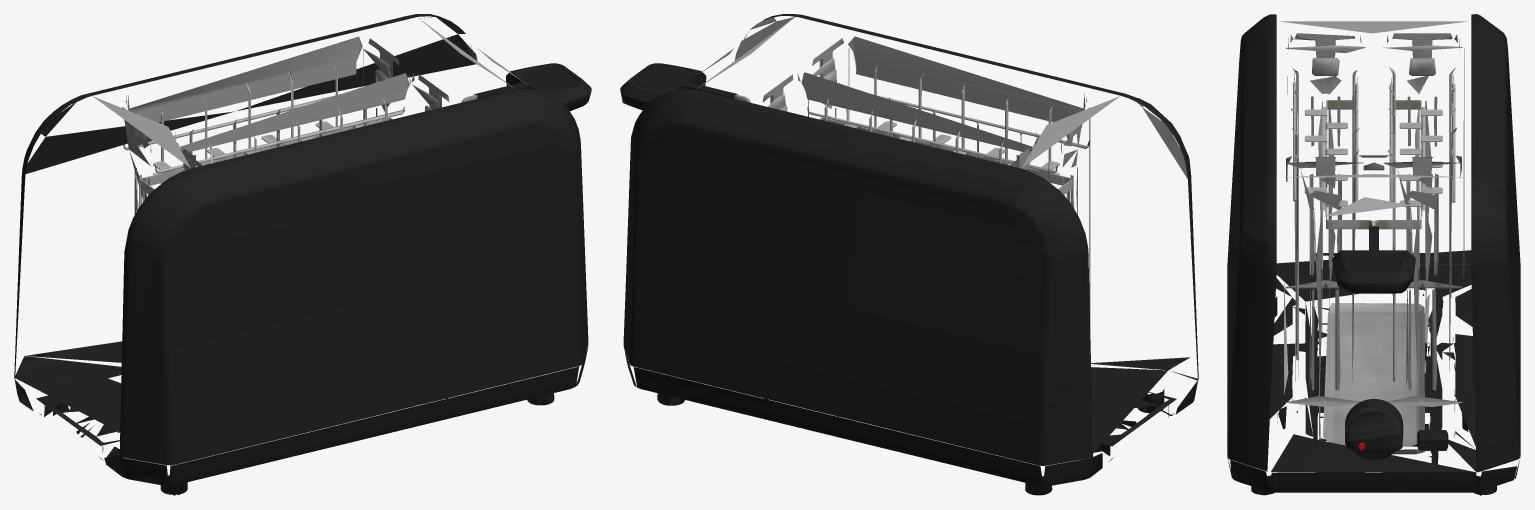
Rendered from appliance_toaster_a01.glb.
The picture shows the model from 3 angles, left to right: view 1: azimuth 30°, elevation 25°; view 2: azimuth 150°, elevation 25°; view 3: azimuth 270°, elevation 25°; orthographic projection. The views are drawn at different scales.
Parts seen in each view (by area): view 1: sm_appliance_toaster_a01_01; view 2: sm_appliance_toaster_a01_01; view 3: sm_appliance_toaster_a01_01.
Part boxes in pixels (box(x1,y1,x2,y2)): sm_appliance_toaster_a01_01: box(14, 14, 591, 495); sm_appliance_toaster_a01_01: box(620, 14, 1198, 495); sm_appliance_toaster_a01_01: box(1227, 14, 1520, 495).
Size of the model in its own units: 0.3065 by 0.1783 by 0.1549.
Materials: 6 (6 with a texture image).
